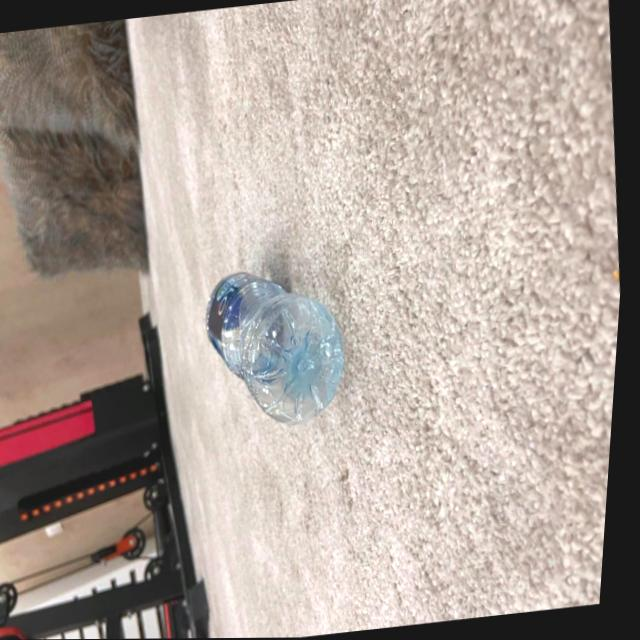anorganik: (187, 243, 350, 430)
